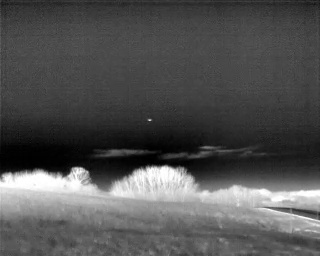AIRPLANE: (146, 116, 154, 123)
